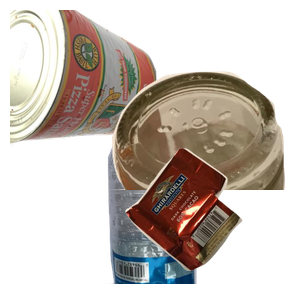glass: (89, 69, 300, 249)
metal: (10, 10, 159, 152)
plastic: (96, 120, 285, 300)
trash: (123, 145, 300, 300)
